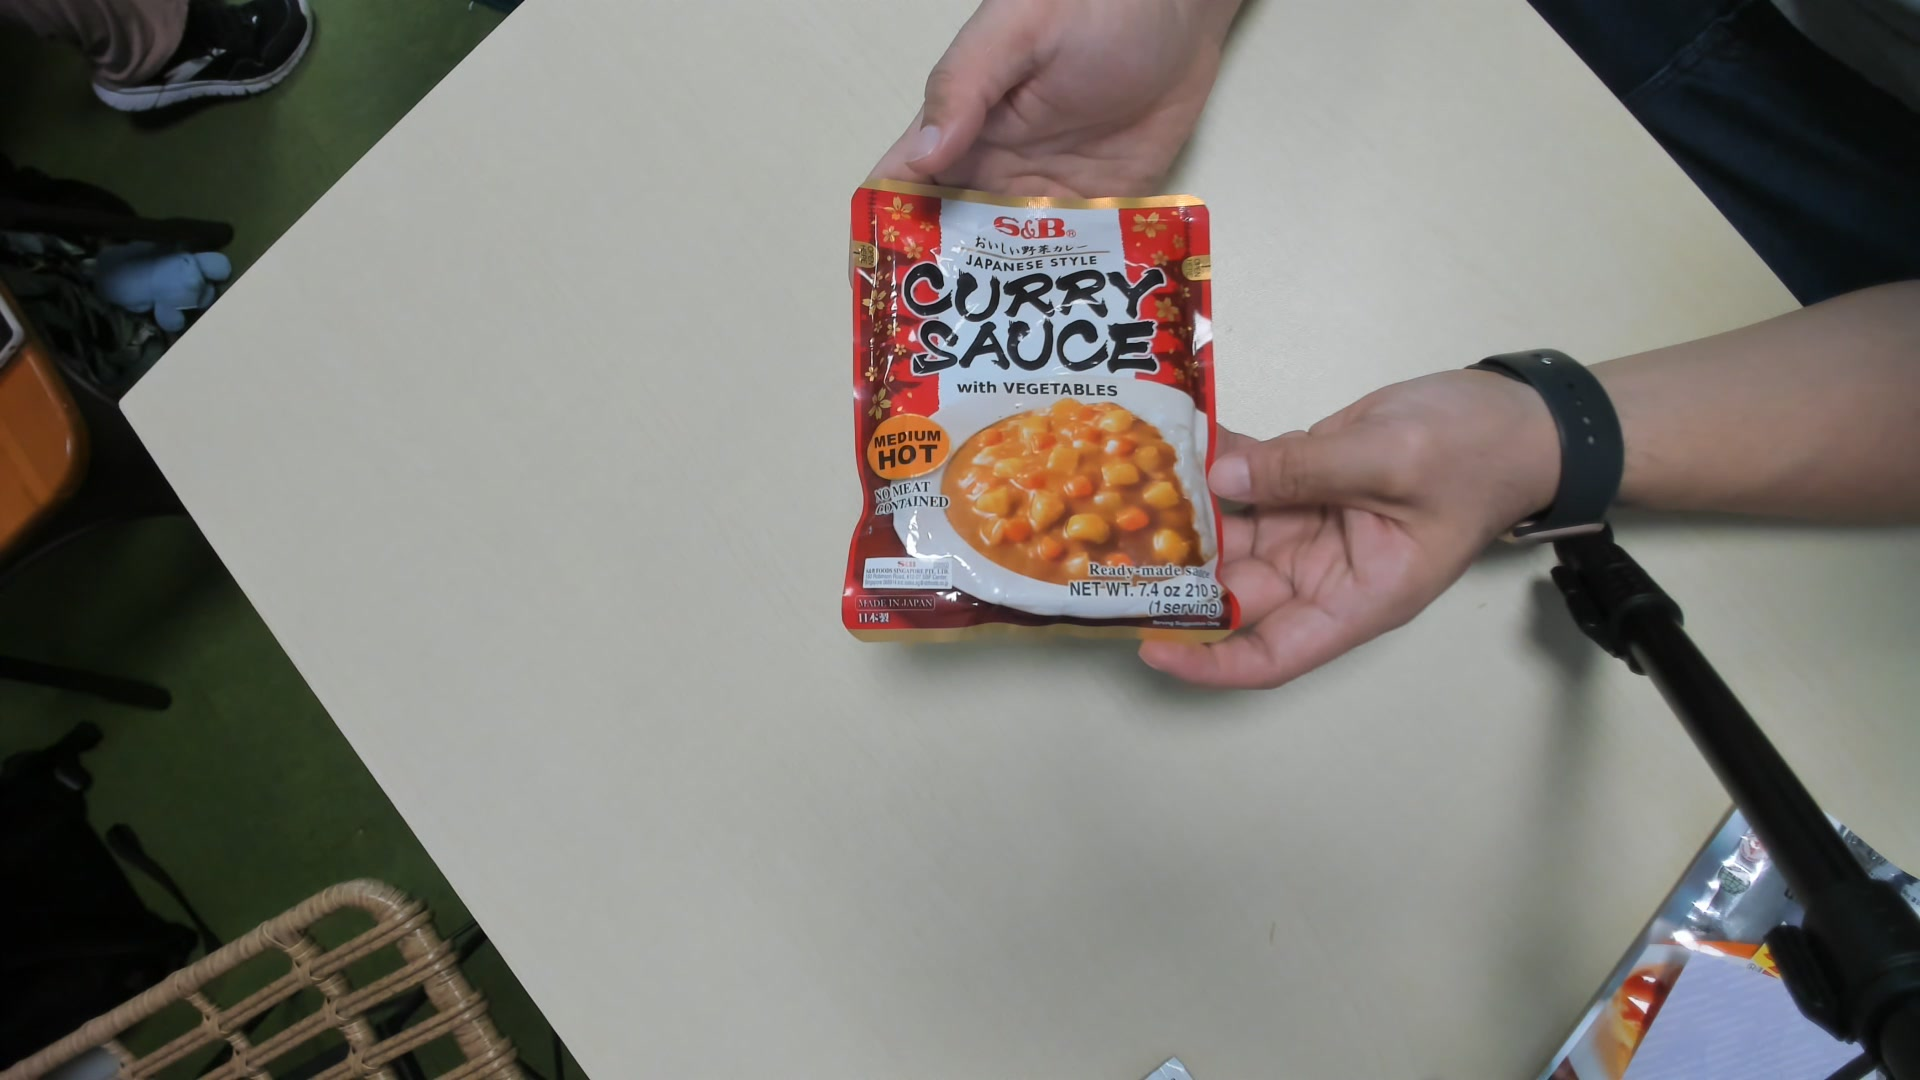CurryPastePowderSauce_200-299g_NonHalal_NonHealthy: (847, 179, 1236, 647)
